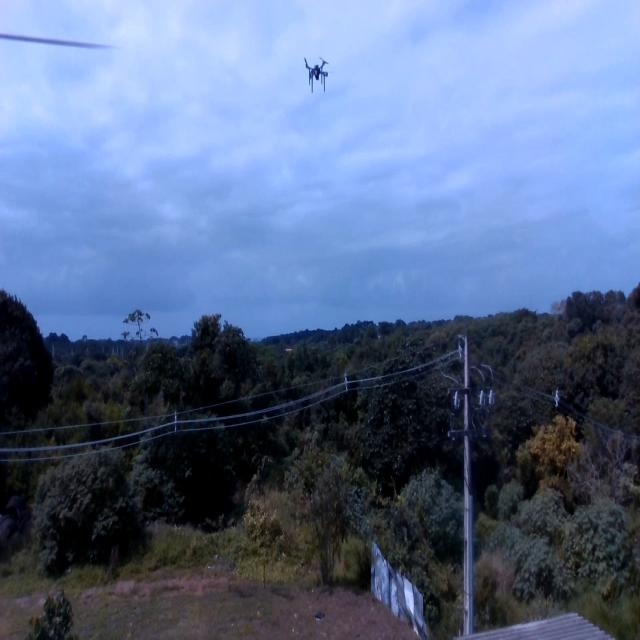-uav-: (297, 49, 336, 96)
